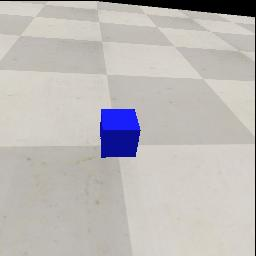box: (99, 108, 141, 158)
